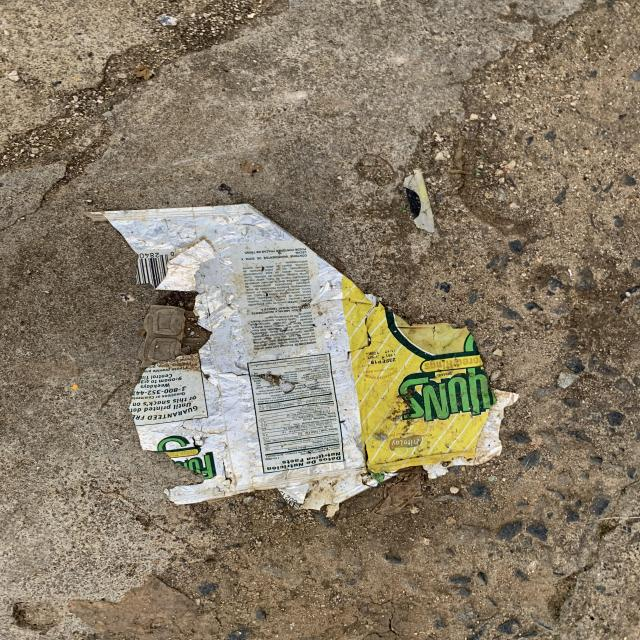litter: (84, 202, 519, 518), (139, 305, 193, 367)
